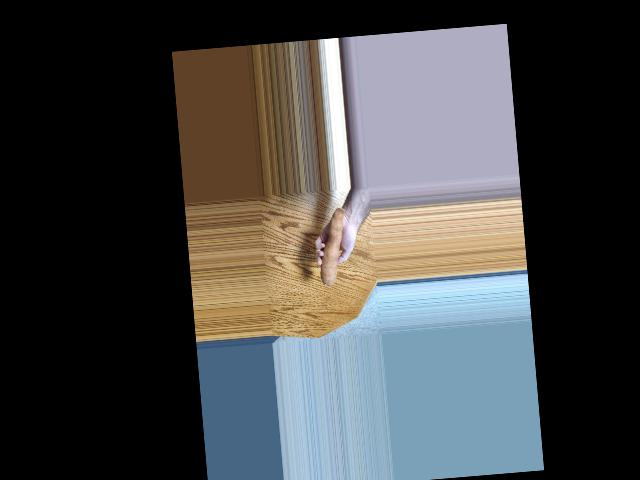sweet_potato: (314, 210, 348, 288)
